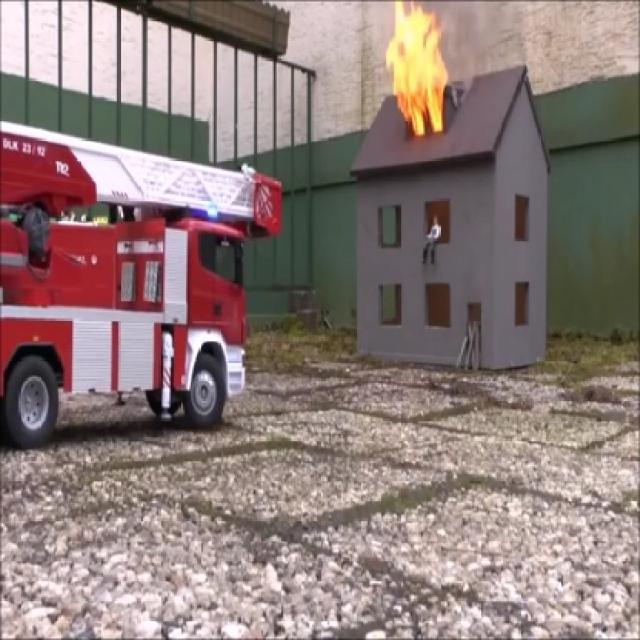Fire: (386, 0, 456, 138)
